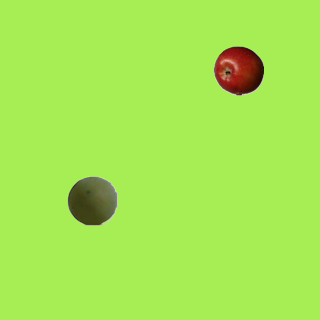Apple Braeburn: (213, 45, 263, 95)
Grape White 4: (66, 175, 116, 225)
